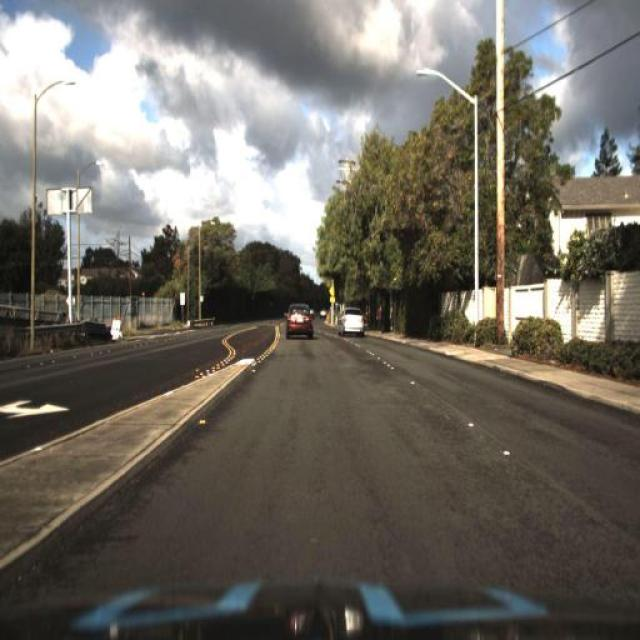car: (281, 300, 317, 344), (337, 302, 367, 338)
trafficLight: (377, 304, 384, 334)
